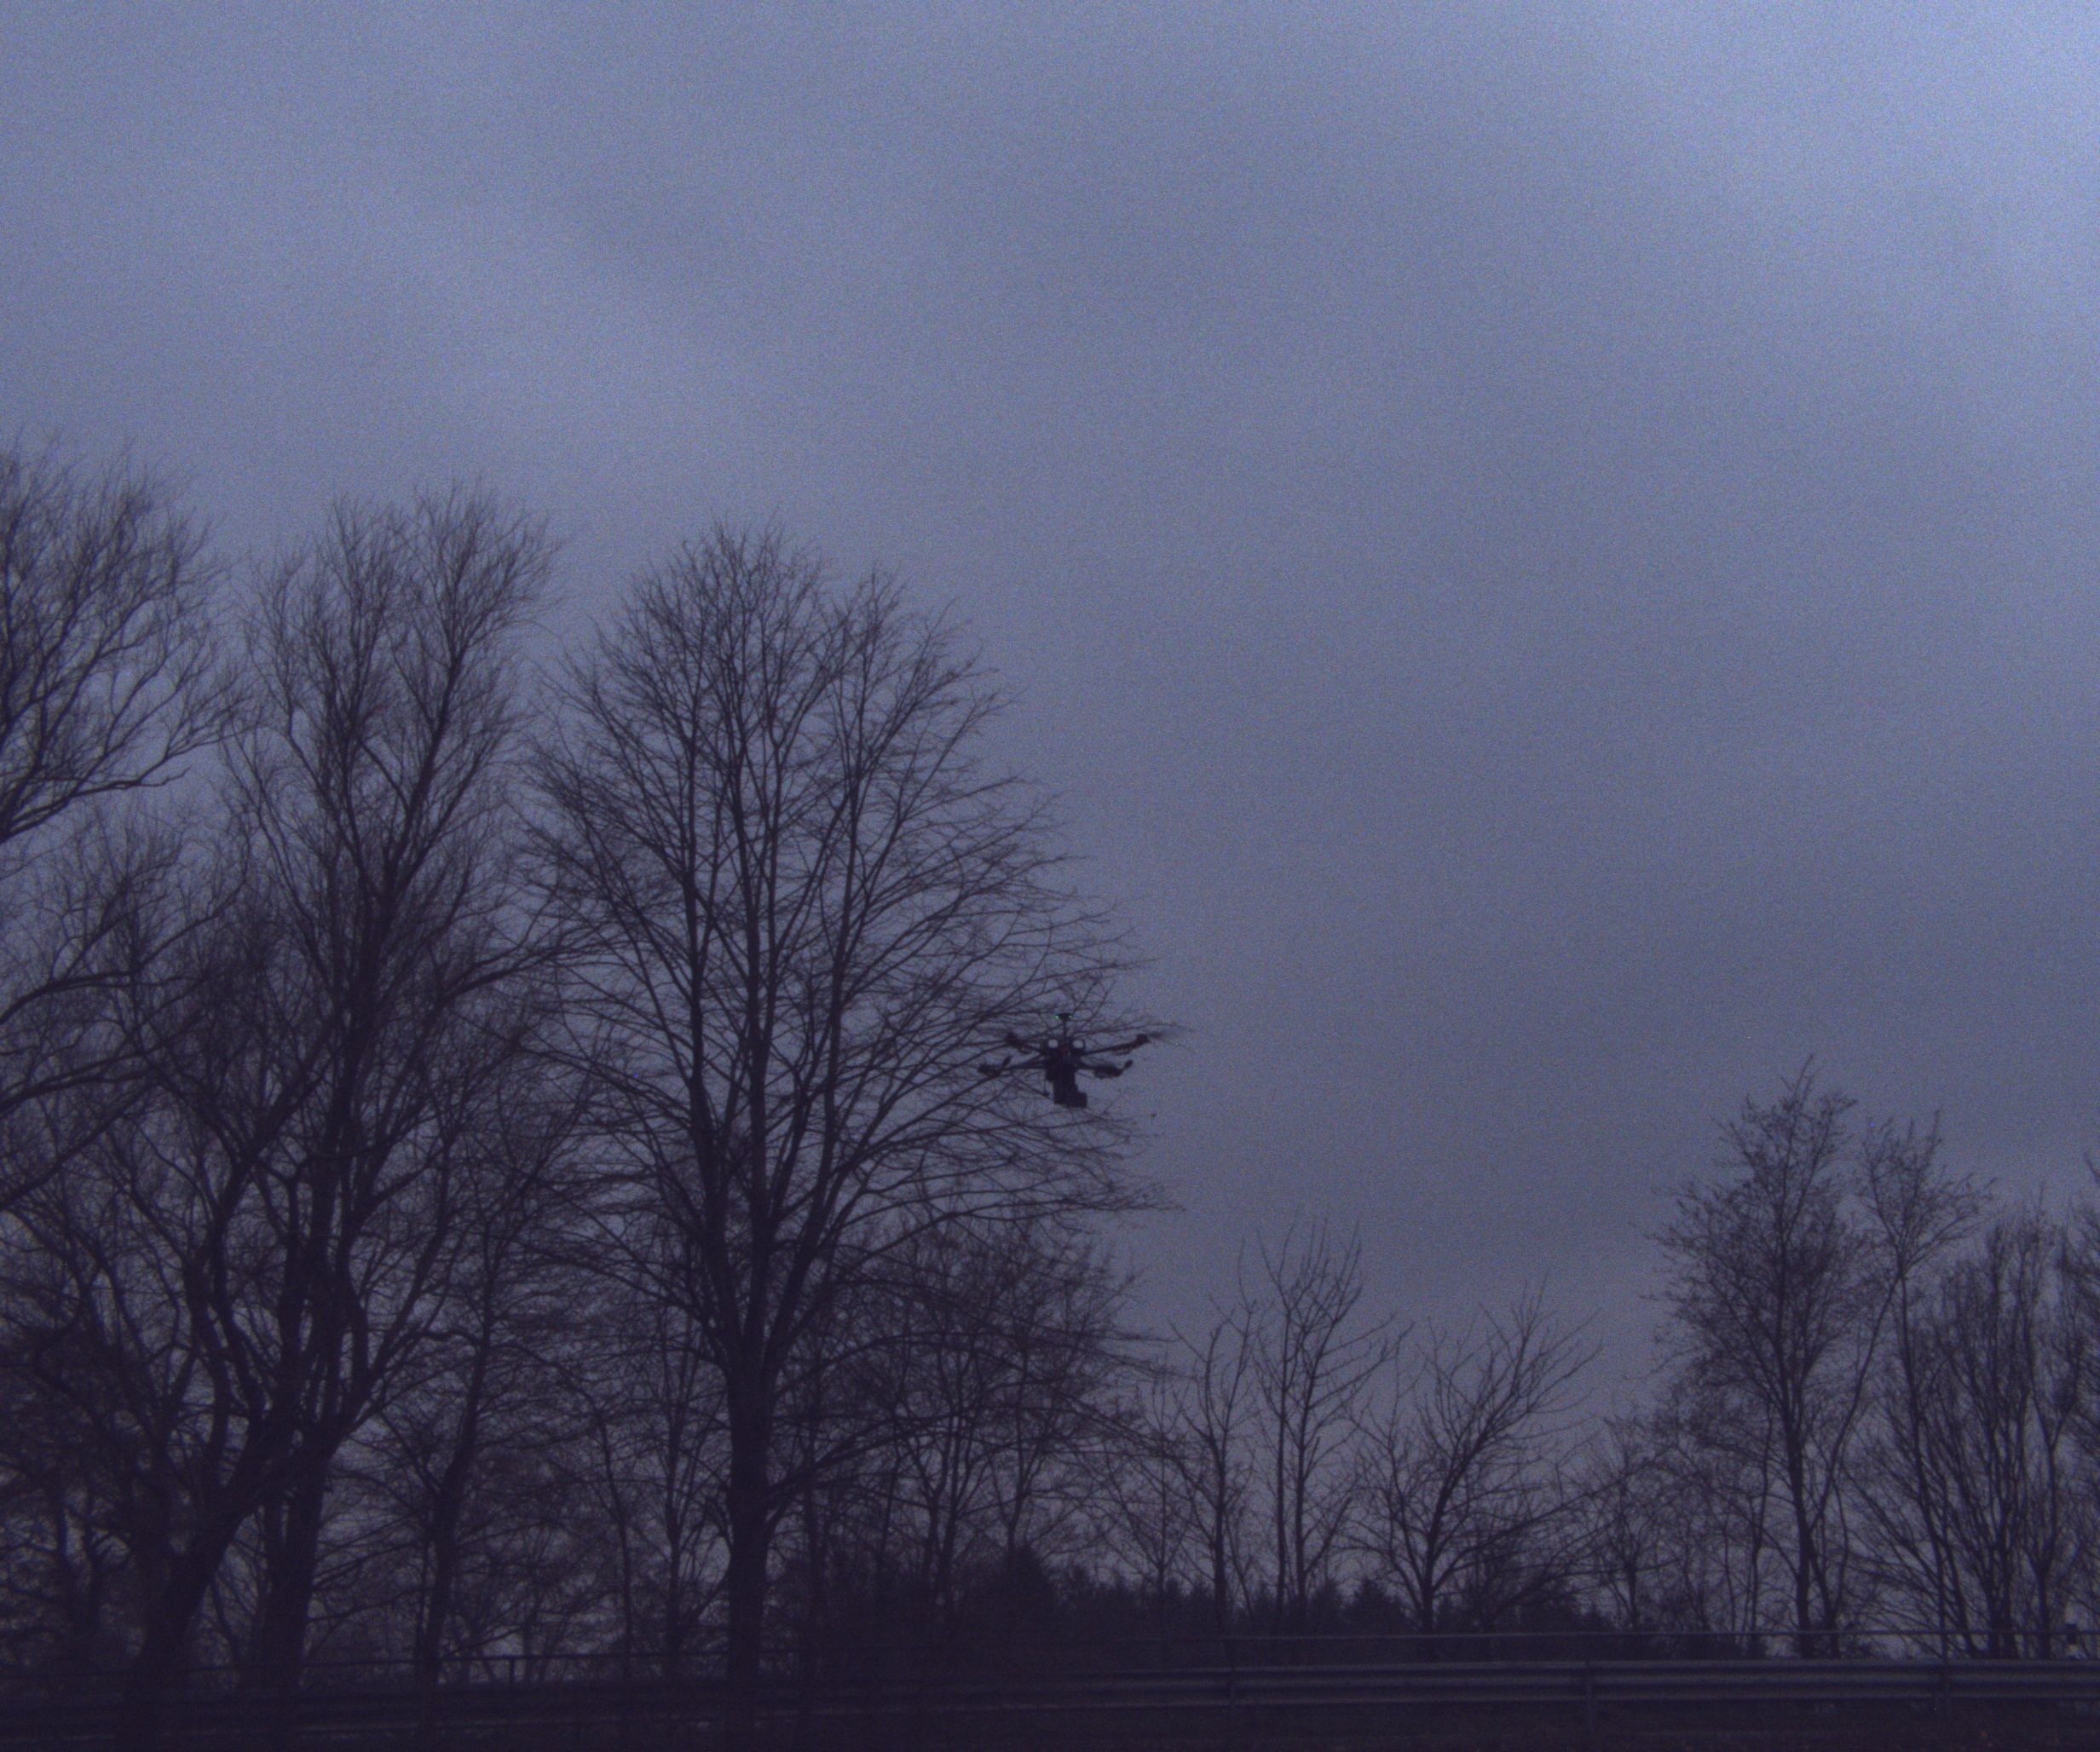Drohne: (949, 987, 1224, 1135)
